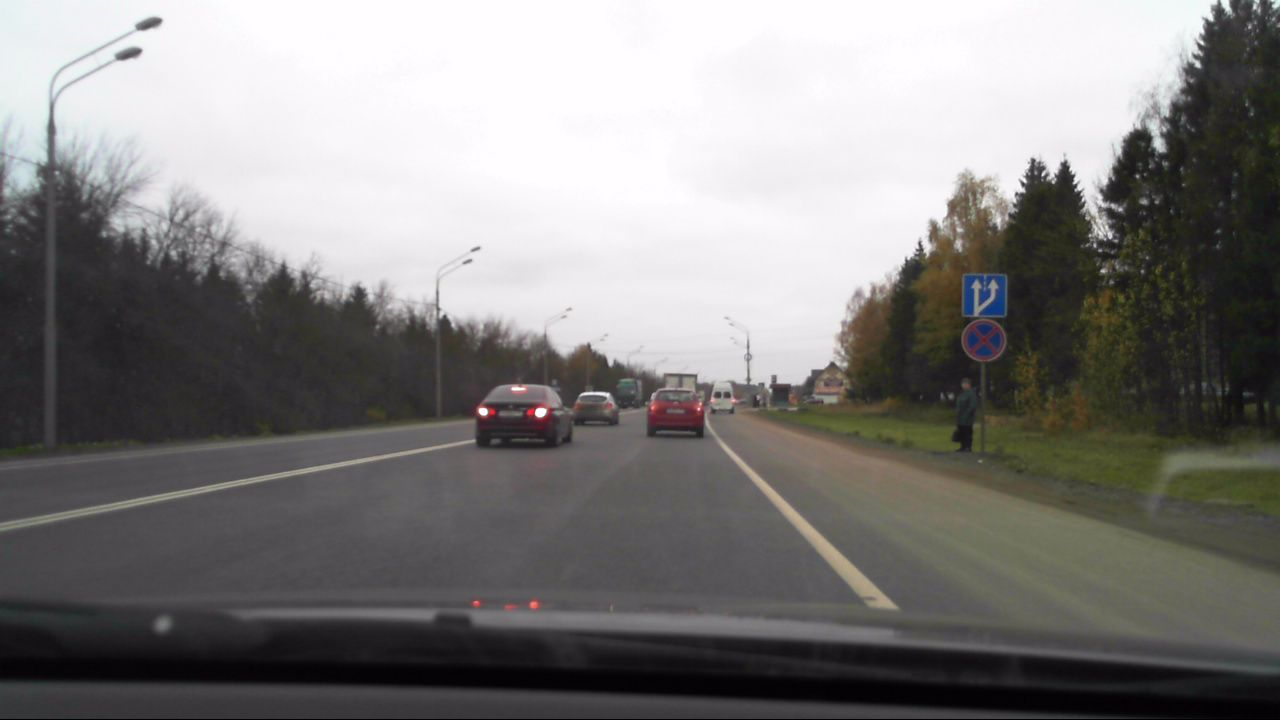No Parking: (960, 320, 1008, 366)
